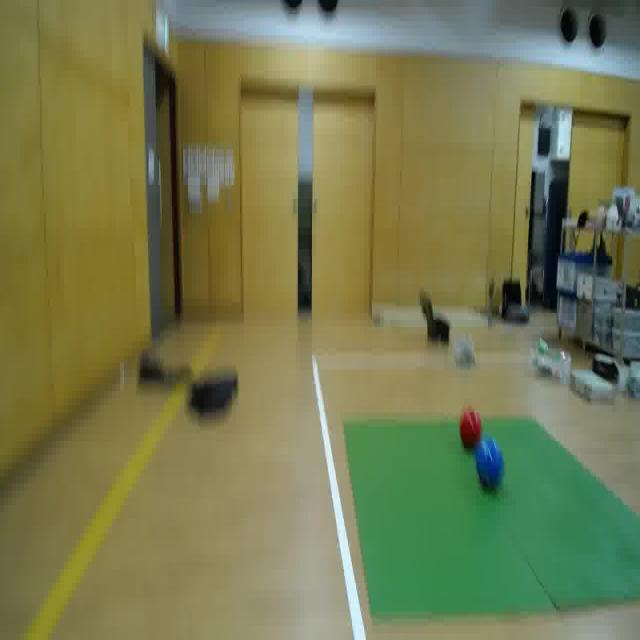blue_ball: (475, 434, 506, 490)
red_ball: (458, 404, 483, 448)
